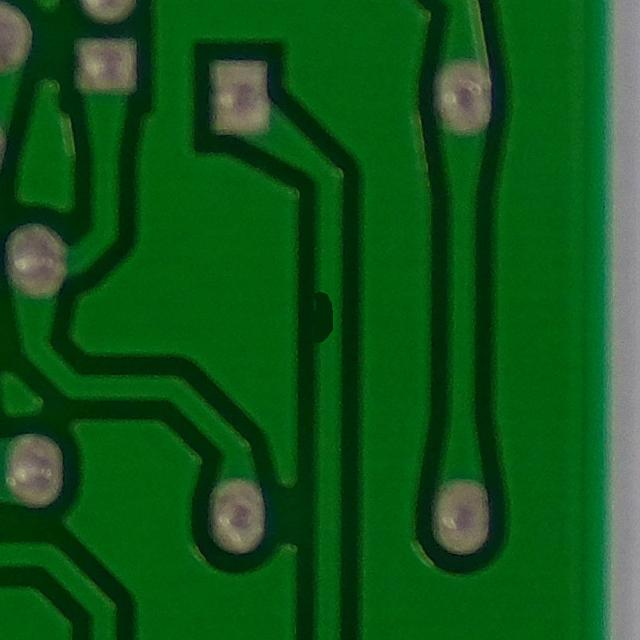mouse_bite: (296, 275, 344, 366)
